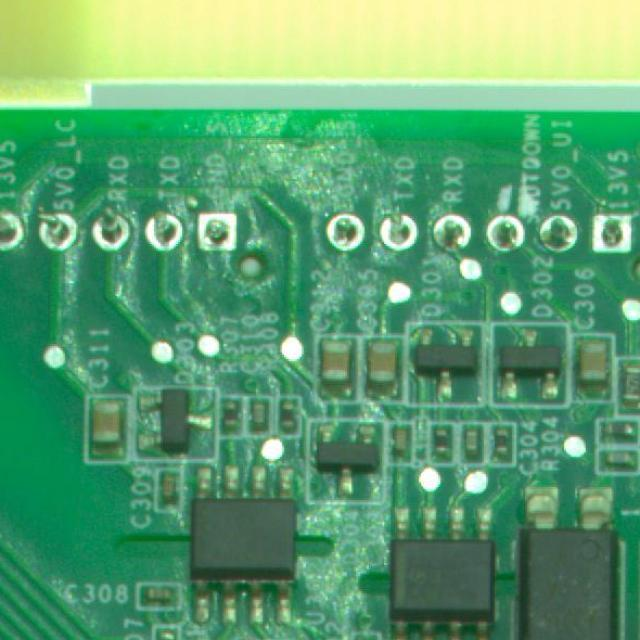Insufficient solder: (586, 209, 640, 270), (424, 202, 474, 266), (372, 202, 422, 264), (482, 206, 532, 268), (84, 204, 136, 262), (192, 206, 241, 258), (319, 212, 369, 262), (140, 206, 182, 264), (36, 210, 82, 262), (0, 206, 24, 256)
